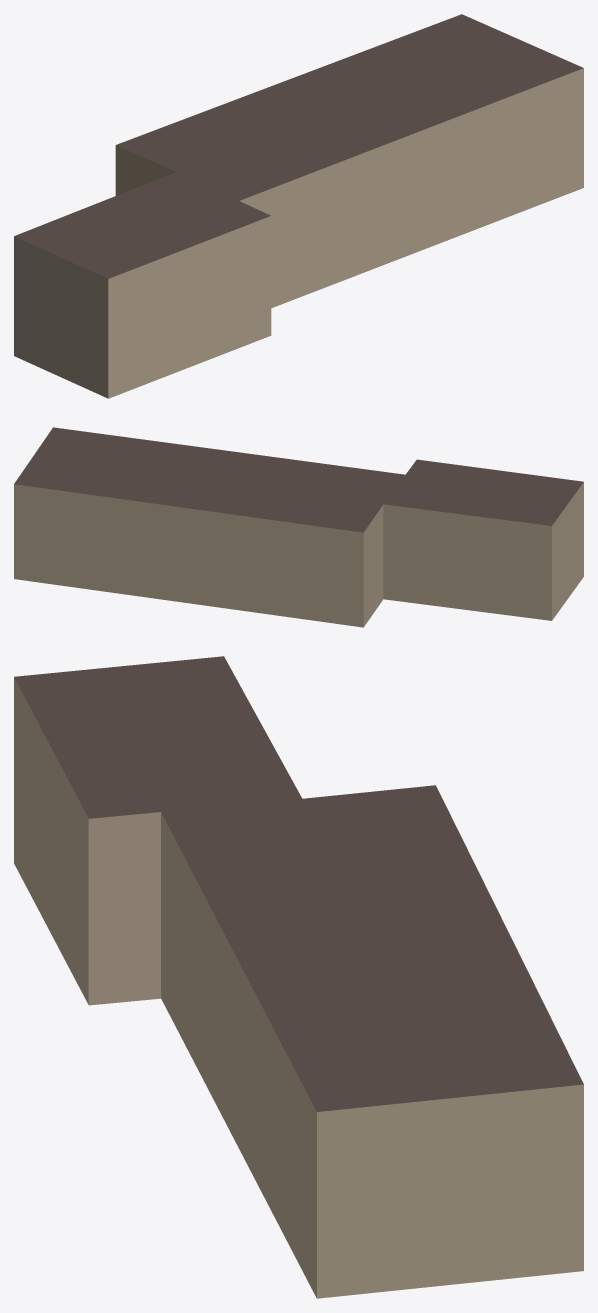
3 views of the same model, one above another, from view 1: azimuth 30°, elevation 25°; view 2: azimuth 150°, elevation 25°; view 3: azimuth 270°, elevation 25° (orthographic). The views are drawn at different scales.
Visible parts, largest first — view 1: HP-w1138074115; view 2: HP-w1138074115; view 3: HP-w1138074115.
Boxes of the visible parts, <box> form: HP-w1138074115: <box>14,14,583,398</box>; HP-w1138074115: <box>14,427,583,627</box>; HP-w1138074115: <box>14,656,583,1298</box>.
Size of the model in its own units: 47.15 by 9 by 24.91.
